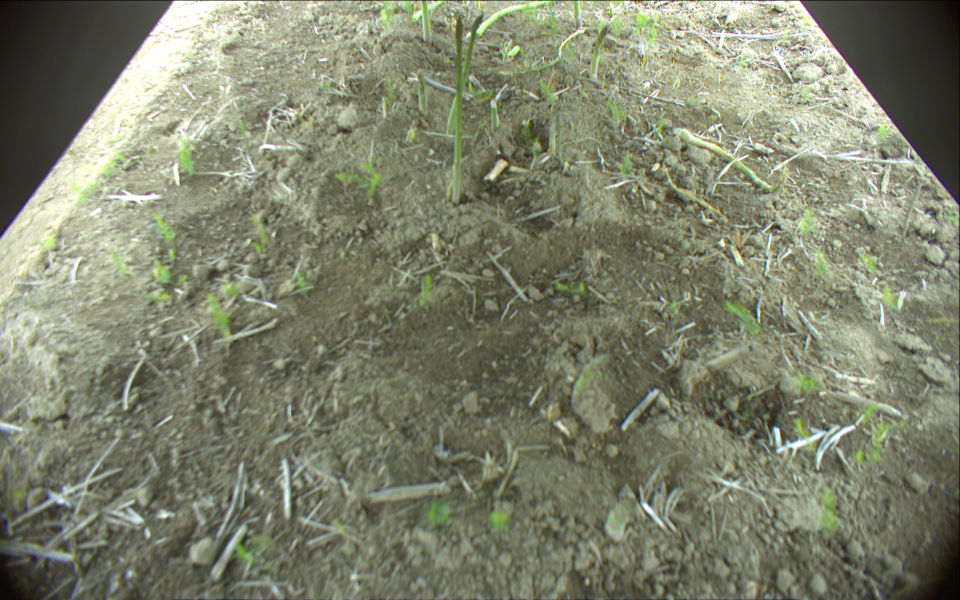aspa: (673, 127, 774, 193), (443, 11, 482, 135), (496, 29, 585, 76), (450, 15, 468, 206), (475, 1, 550, 37), (590, 20, 608, 82), (412, 1, 440, 24), (417, 68, 427, 112), (421, 1, 431, 44), (490, 100, 500, 134), (574, 1, 583, 29)
